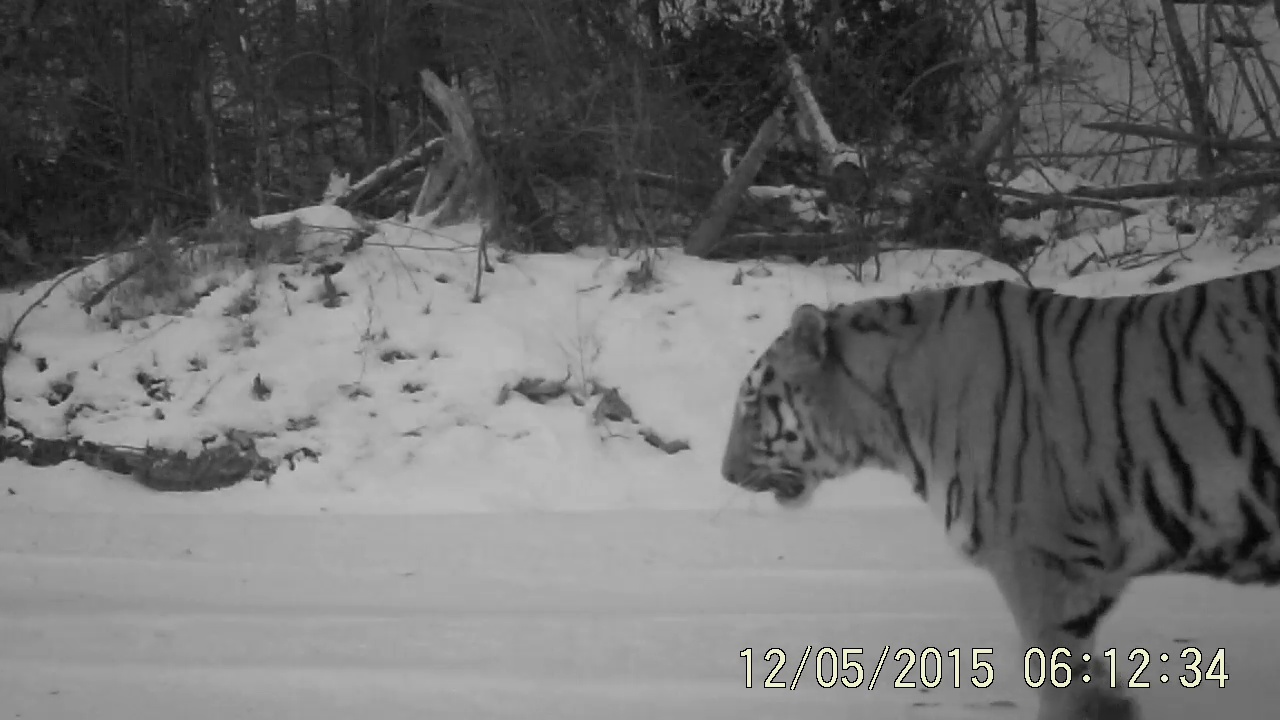Tiger: (704, 263, 1280, 639)
